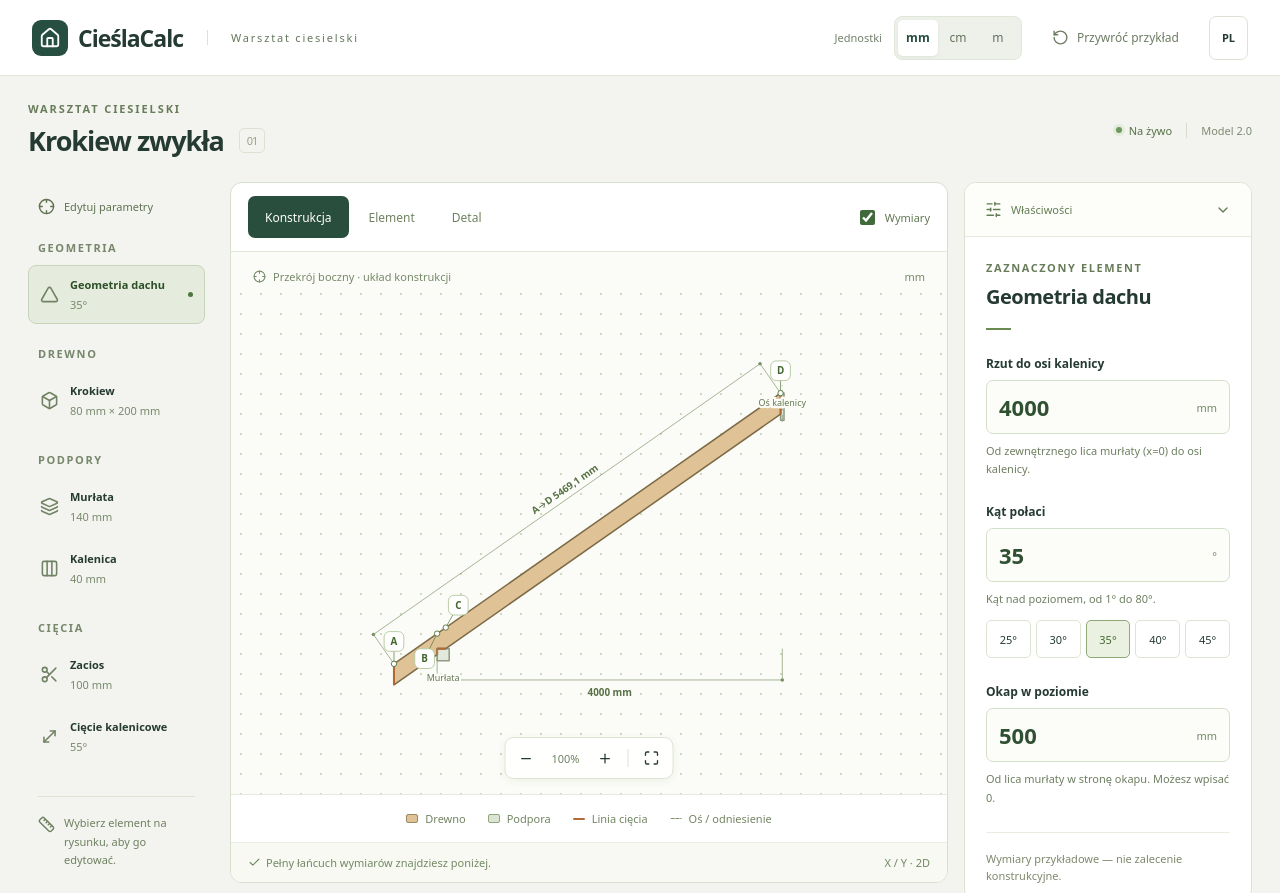
parametric workbench › can find invalid fields in another inspector and does not leak malformed decimals
The image size is (1280, 893).
Replace the text in the field labelled "Rzut do osi kalenicy" with "1,2.3" at x=1092, y=407, box [987,381,1196,433]
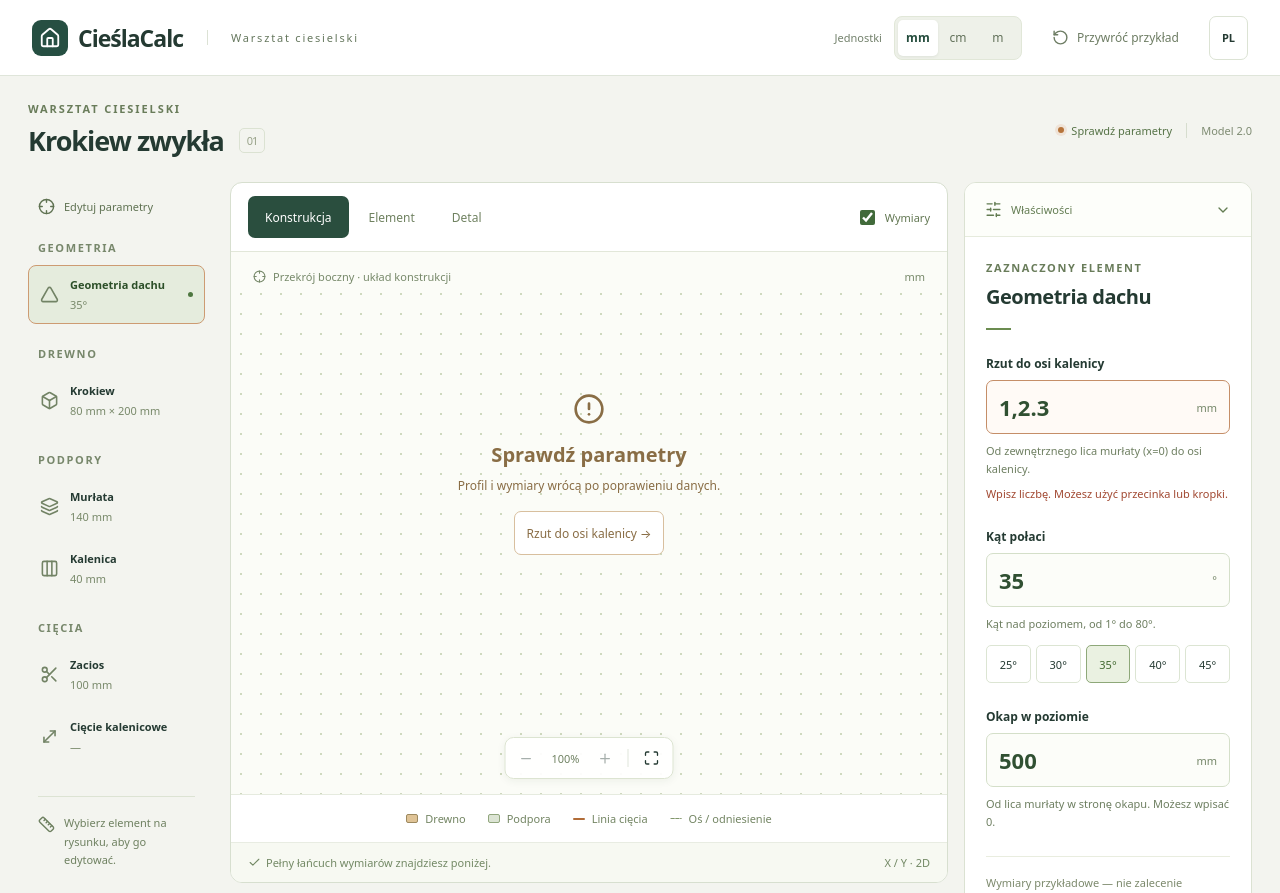
Click the button "Krokiew 80 mm × 200 mm" at x=116, y=400, box [28,371,205,430]
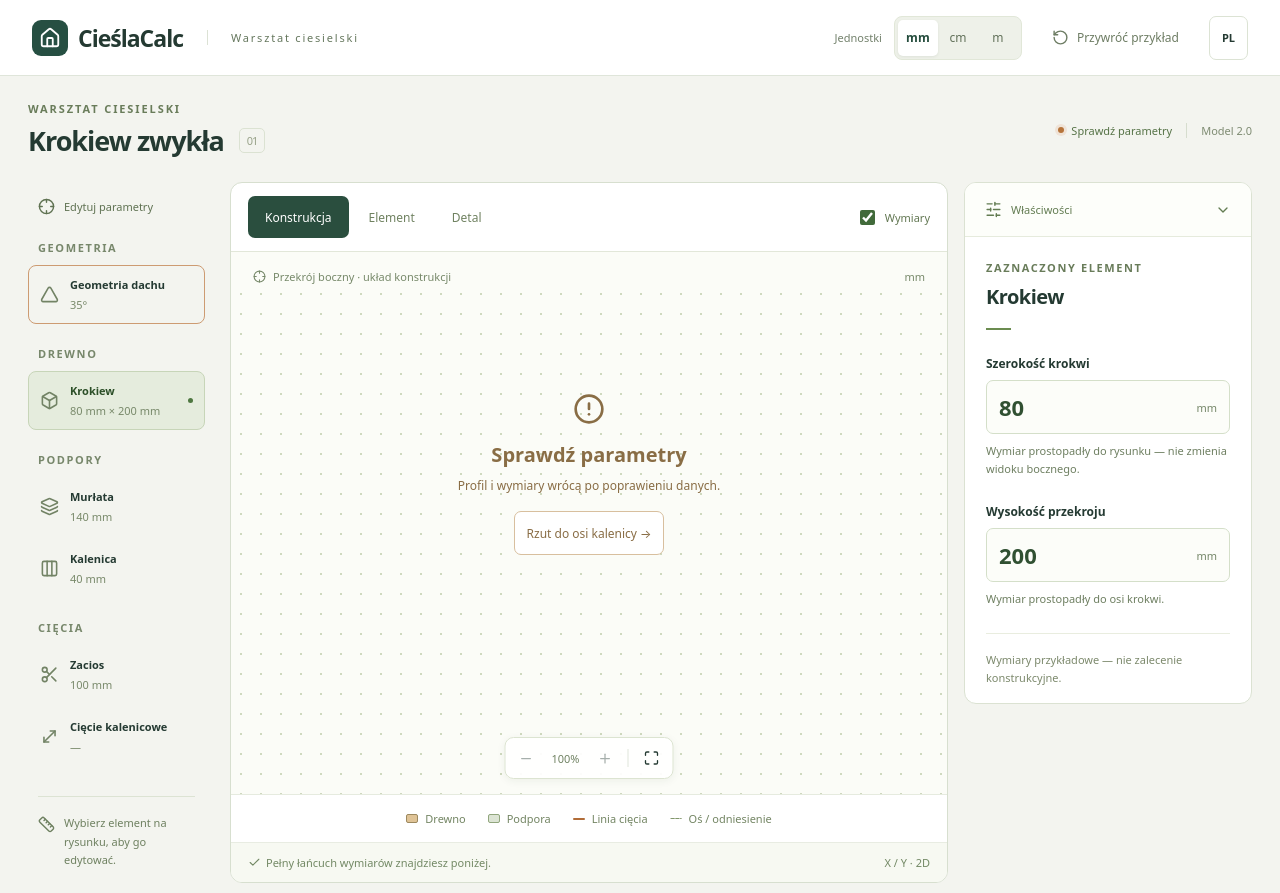
Click the button "Rzut do osi kalenicy →" at x=589, y=533, box [514,511,664,555]
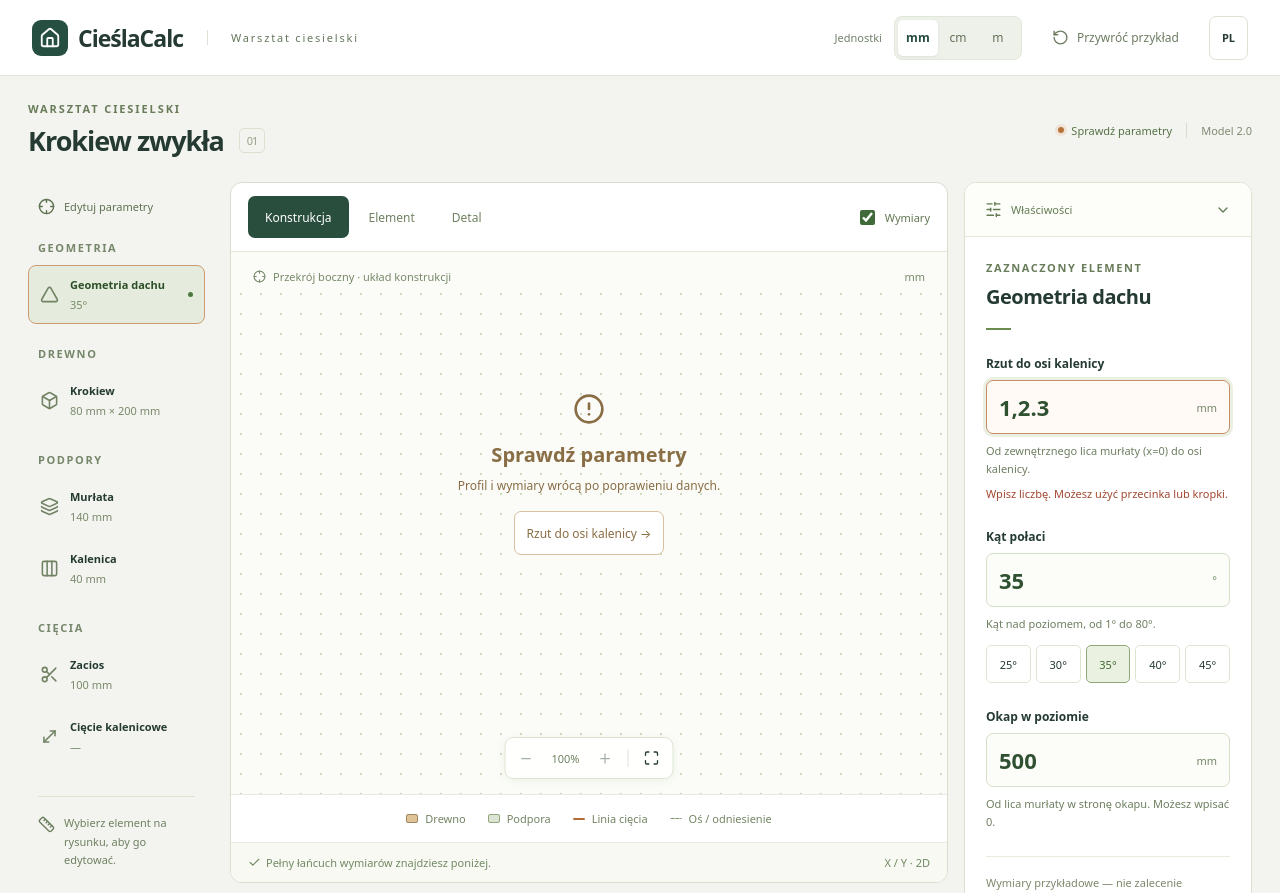
Result: the field labelled "Rzut do osi kalenicy" is shown at [987,381,1196,433]
